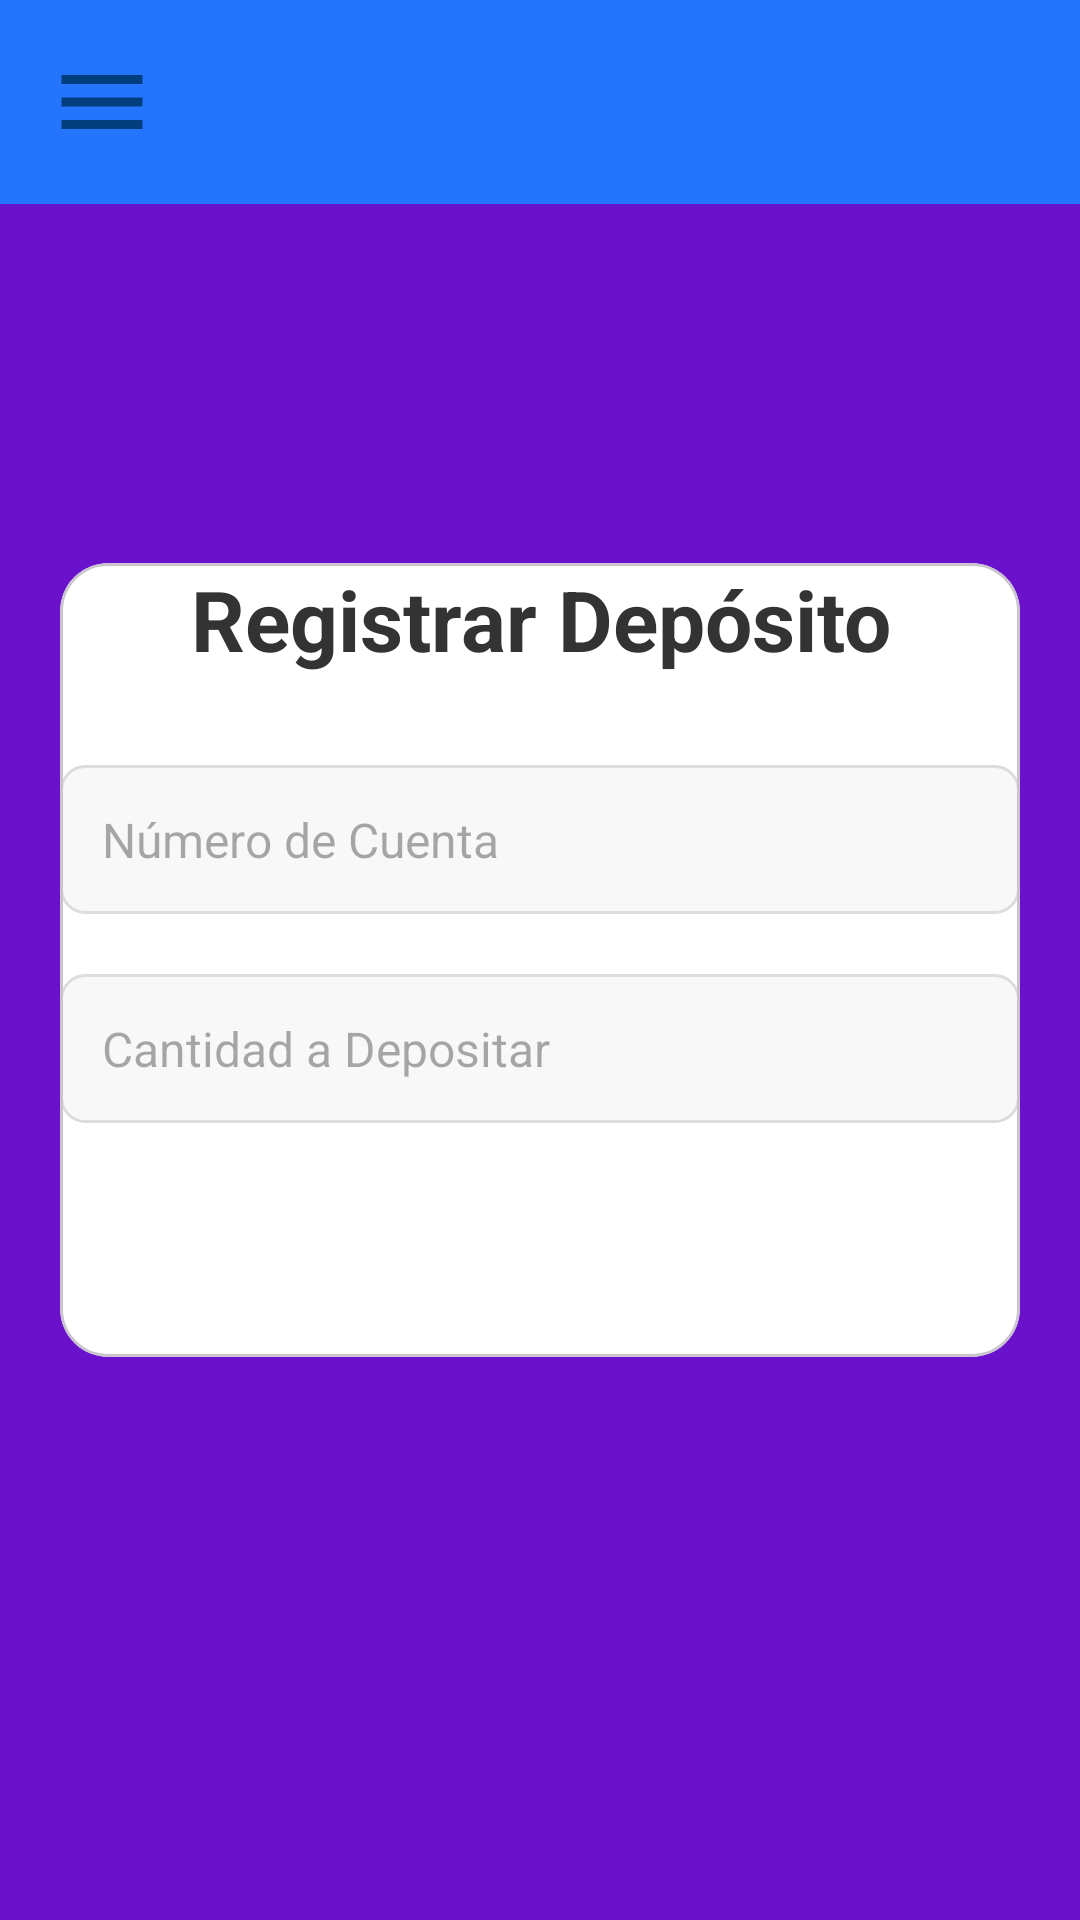

Icons on this 1080 × 1920 Android screen, each with its box as (x1, y1, x2, y2):
Abrir menú: (61, 75, 143, 129)
